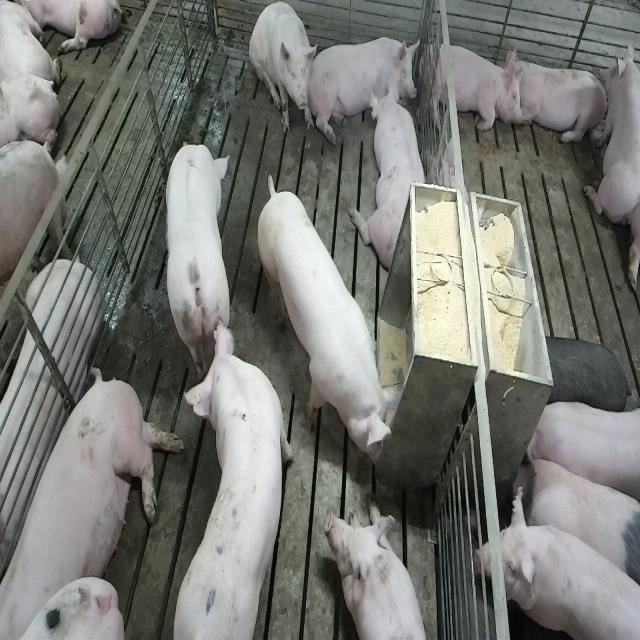Feeding: (262, 163, 408, 477)
Lateral_lying: (4, 363, 186, 636), (0, 260, 102, 582)
Sitting: (250, 3, 318, 138)
Standing: (176, 315, 296, 635), (477, 490, 638, 638), (512, 446, 637, 588), (159, 138, 230, 378), (0, 140, 71, 342), (525, 396, 640, 512), (532, 332, 634, 420)
Sternal_lying: (330, 502, 434, 640), (356, 84, 430, 274), (313, 28, 419, 137), (585, 38, 637, 227), (425, 36, 521, 136), (510, 52, 608, 149)
